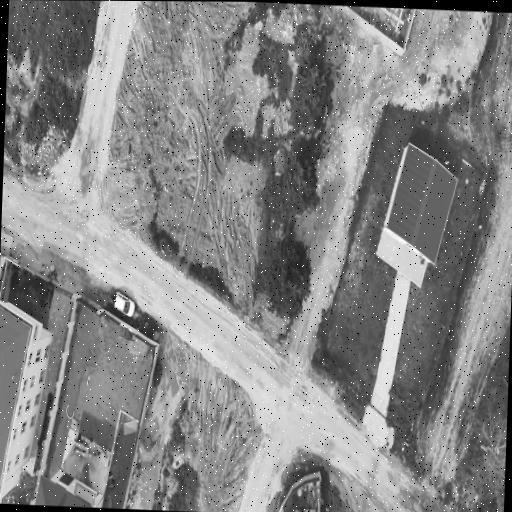car: (115, 292, 135, 316)
